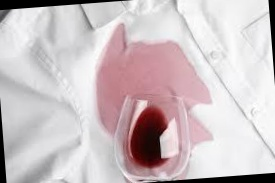wine: (101, 25, 211, 139), (87, 41, 192, 101), (189, 101, 213, 150)
